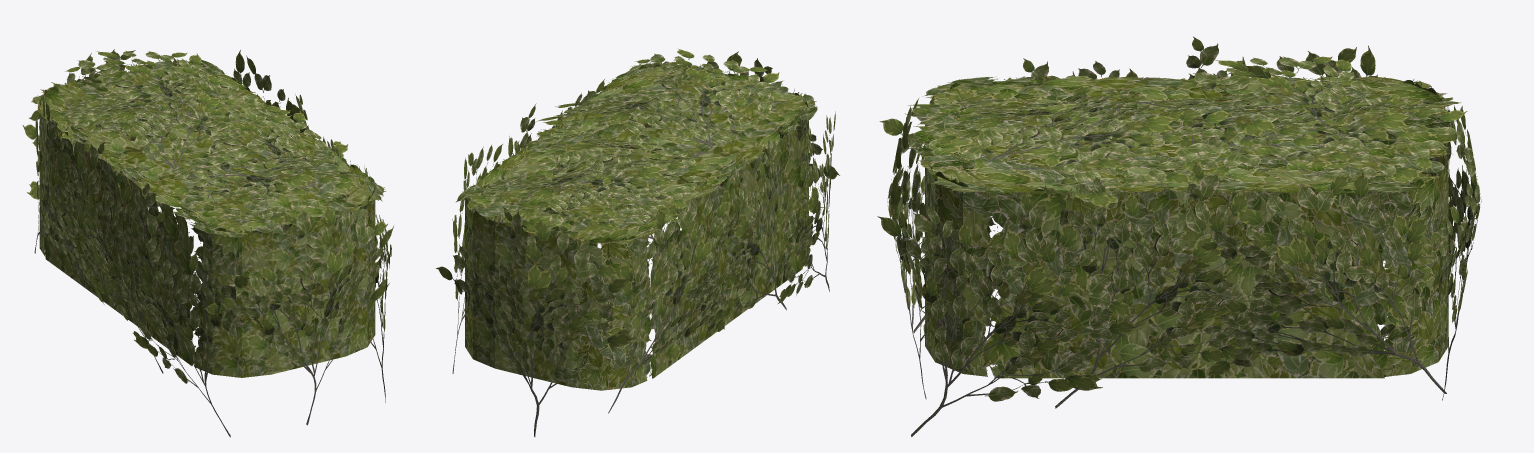
The model's file is MB_Boxwood_Shrubs_04.fbx.
3 renders of one model, left to right at view 1: azimuth 30°, elevation 25°; view 2: azimuth 150°, elevation 25°; view 3: azimuth 270°, elevation 25°, orthographic. The views are drawn at different scales.
Visible parts, largest first — view 1: MB_Boxwood_Shrubs_04; view 2: MB_Boxwood_Shrubs_04; view 3: MB_Boxwood_Shrubs_04.
Boxes of the visible parts, x1=… form: MB_Boxwood_Shrubs_04: x1=22, y1=49, x2=393, y2=437; MB_Boxwood_Shrubs_04: x1=436, y1=49, x2=839, y2=436; MB_Boxwood_Shrubs_04: x1=877, y1=36, x2=1481, y2=436.
Bounding box in the file's own units: 105 × 106 × 182.
